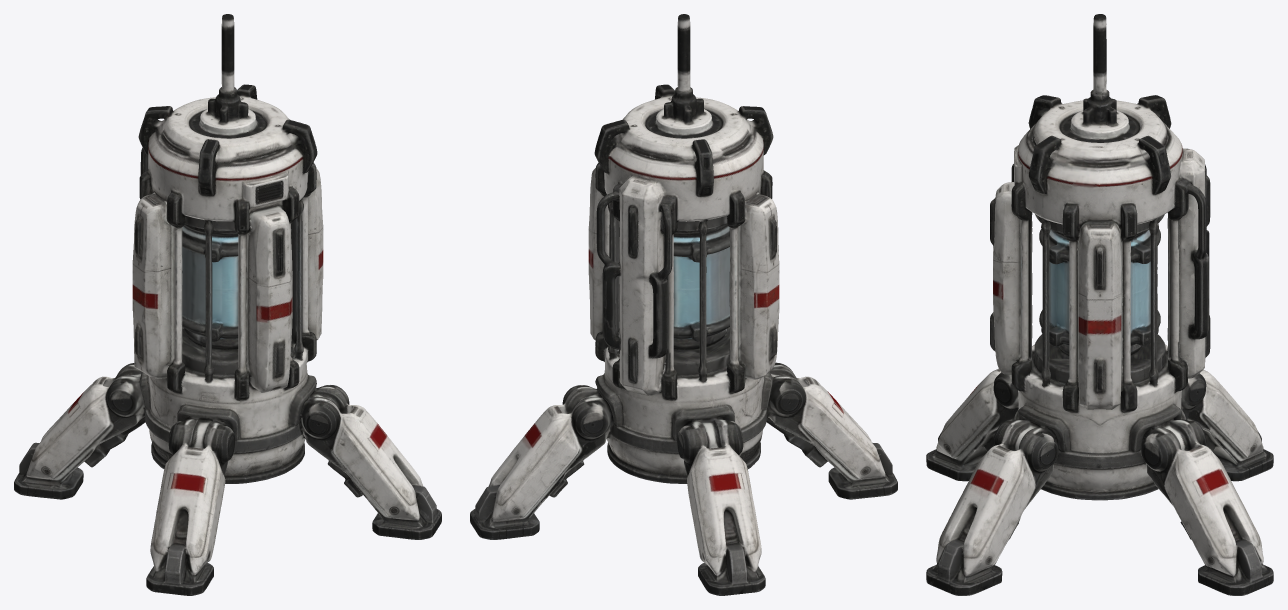
Rendered from energy-cell.glb.
The picture shows the model from 3 angles, left to right: view 1: azimuth 30°, elevation 25°; view 2: azimuth 150°, elevation 25°; view 3: azimuth 270°, elevation 25°; orthographic projection. The views are drawn at different scales.
Parts seen in each view (by area): view 1: energy-cell-mesh-00; view 2: energy-cell-mesh-00; view 3: energy-cell-mesh-00.
Boxes of the visible parts, x1,y1,x2,y2 form: energy-cell-mesh-00: (14,14,441,595); energy-cell-mesh-00: (470,14,897,595); energy-cell-mesh-00: (926,14,1273,595).
Size of the model in its own units: 1.18 by 1.9 by 1.18.
1 material, 1 textured.
